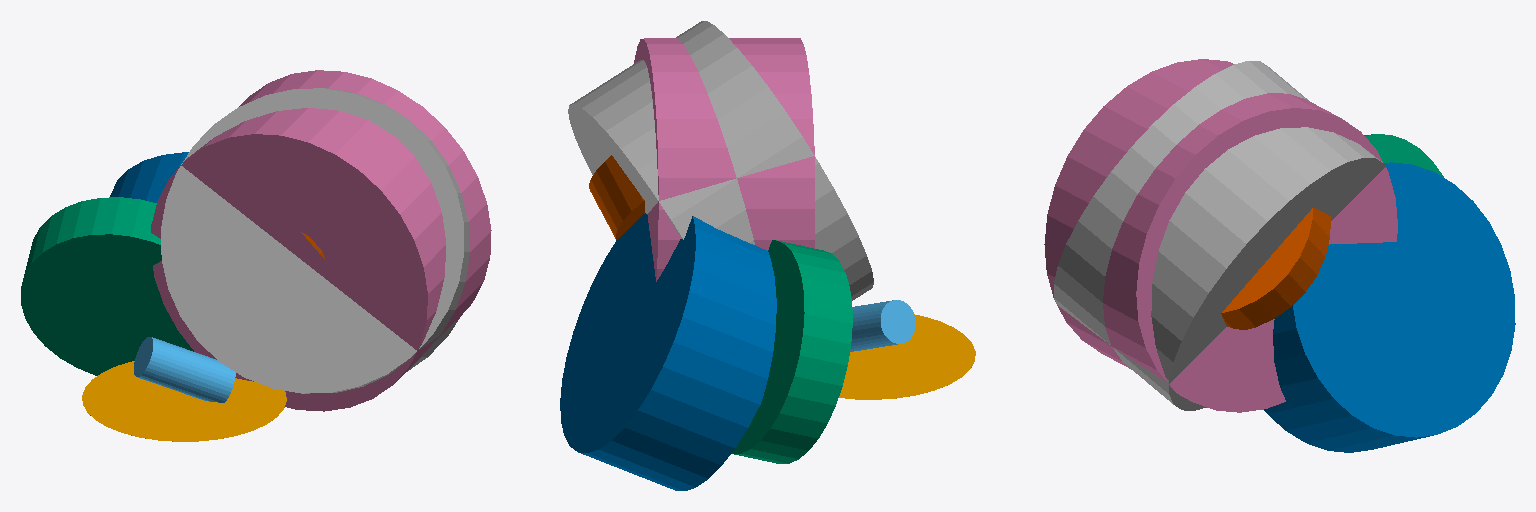
URDF robot description (pepe):
<robot name="pepe">
	<link name="0">
		<visual>
			<geometry>
				<cylinder length="0.00018669200855736634" radius="0.6433571912630214"/>
			</geometry>
		</visual>
		<collision>
			<geometry>
				<cylinder length="0.00018669200855736634" radius="0.6433571912630214"/>
			</geometry>
		</collision>
		<inertial>
			<mass value="0.00024276156039558443"/>
			<inertia ixx="0.03" iyy="0.03" izz="0.03" ixy="0" ixz="0" iyx="0"/>
		</inertial>
	</link>
	<link name="11">
		<visual>
			<geometry>
				<cylinder length="0.5825346973094198" radius="0.1344101030337398"/>
			</geometry>
		</visual>
		<collision>
			<geometry>
				<cylinder length="0.5825346973094198" radius="0.1344101030337398"/>
			</geometry>
		</collision>
		<inertial>
			<mass value="0.03306248549946934"/>
			<inertia ixx="0.03" iyy="0.03" izz="0.03" ixy="0" ixz="0" iyx="0"/>
		</inertial>
	</link>
	<link name="42">
		<visual>
			<geometry>
				<cylinder length="0.32991061629635154" radius="0.659888503144035"/>
			</geometry>
		</visual>
		<collision>
			<geometry>
				<cylinder length="0.32991061629635154" radius="0.659888503144035"/>
			</geometry>
		</collision>
		<inertial>
			<mass value="0.45132281440264777"/>
			<inertia ixx="0.03" iyy="0.03" izz="0.03" ixy="0" ixz="0" iyx="0"/>
		</inertial>
	</link>
	<link name="63">
		<visual>
			<geometry>
				<cylinder length="0.4282506855319457" radius="0.021542928580594145"/>
			</geometry>
		</visual>
		<collision>
			<geometry>
				<cylinder length="0.4282506855319457" radius="0.021542928580594145"/>
			</geometry>
		</collision>
		<inertial>
			<mass value="0.0006243921334717215"/>
			<inertia ixx="0.03" iyy="0.03" izz="0.03" ixy="0" ixz="0" iyx="0"/>
		</inertial>
	</link>
	<link name="24">
		<visual>
			<geometry>
				<cylinder length="0.6767822617877952" radius="0.8325034157491421"/>
			</geometry>
		</visual>
		<collision>
			<geometry>
				<cylinder length="0.6767822617877952" radius="0.8325034157491421"/>
			</geometry>
		</collision>
		<inertial>
			<mass value="1.473570397274502"/>
			<inertia ixx="0.03" iyy="0.03" izz="0.03" ixy="0" ixz="0" iyx="0"/>
		</inertial>
	</link>
	<link name="35">
		<visual>
			<geometry>
				<cylinder length="0.358516004105492" radius="0.6289221186312428"/>
			</geometry>
		</visual>
		<collision>
			<geometry>
				<cylinder length="0.358516004105492" radius="0.6289221186312428"/>
			</geometry>
		</collision>
		<inertial>
			<mass value="0.4455045639168888"/>
			<inertia ixx="0.03" iyy="0.03" izz="0.03" ixy="0" ixz="0" iyx="0"/>
		</inertial>
	</link>
	<link name="76">
		<visual>
			<geometry>
				<cylinder length="0.9525721408762844" radius="0.9599301255418282"/>
			</geometry>
		</visual>
		<collision>
			<geometry>
				<cylinder length="0.9525721408762844" radius="0.9599301255418282"/>
			</geometry>
		</collision>
		<inertial>
			<mass value="2.7575728297932733"/>
			<inertia ixx="0.03" iyy="0.03" izz="0.03" ixy="0" ixz="0" iyx="0"/>
		</inertial>
	</link>
	<link name="77">
		<visual>
			<geometry>
				<cylinder length="0.9525721408762844" radius="0.9599301255418282"/>
			</geometry>
		</visual>
		<collision>
			<geometry>
				<cylinder length="0.9525721408762844" radius="0.9599301255418282"/>
			</geometry>
		</collision>
		<inertial>
			<mass value="2.7575728297932733"/>
			<inertia ixx="0.03" iyy="0.03" izz="0.03" ixy="0" ixz="0" iyx="0"/>
		</inertial>
	</link>
	<link name="58">
		<visual>
			<geometry>
				<cylinder length="0.00153756204312816" radius="0.02708229181987041"/>
			</geometry>
		</visual>
		<collision>
			<geometry>
				<cylinder length="0.00153756204312816" radius="0.02708229181987041"/>
			</geometry>
		</collision>
		<inertial>
			<mass value="3.5428547611058314e-06"/>
			<inertia ixx="0.03" iyy="0.03" izz="0.03" ixy="0" ixz="0" iyx="0"/>
		</inertial>
	</link>
	<link name="59">
		<visual>
			<geometry>
				<cylinder length="0.00153756204312816" radius="0.02708229181987041"/>
			</geometry>
		</visual>
		<collision>
			<geometry>
				<cylinder length="0.00153756204312816" radius="0.02708229181987041"/>
			</geometry>
		</collision>
		<inertial>
			<mass value="3.5428547611058314e-06"/>
			<inertia ixx="0.03" iyy="0.03" izz="0.03" ixy="0" ixz="0" iyx="0"/>
		</inertial>
	</link>
	<joint name="11_to_0" type="revolute">
		<parent link="0"/>
		<child link="11"/>
		<axis xyz="1 0 0"/>
		<limit effort="1" upper="-3.1415" lower="3.1415" velocity="1"/>
		<origin rpy="11.626505171087503 5.516802298202429 0.7791319437868018" xyz="0.0019279200350848108 0.0005248485264476697 0.18877120123119884"/>
	</joint>
	<joint name="42_to_11" type="revolute">
		<parent link="11"/>
		<child link="42"/>
		<axis xyz="0 0 1"/>
		<limit effort="1" upper="-3.1415" lower="3.1415" velocity="1"/>
		<origin rpy="0.10051264616390823 1.3953726500600625 3.620509695951334" xyz="0.6345348520150791 0.6369416216841768 0.23249578398044024"/>
	</joint>
	<joint name="63_to_42" type="revolute">
		<parent link="42"/>
		<child link="63"/>
		<axis xyz="1 0 0"/>
		<limit effort="1" upper="-3.1415" lower="3.1415" velocity="1"/>
		<origin rpy="2.926150237106665 3.4902134344414972 2.629317776859516" xyz="0.7645397743925203 0.7419708613084566 0.4547575271281963"/>
	</joint>
	<joint name="24_to_0" type="revolute">
		<parent link="0"/>
		<child link="24"/>
		<axis xyz="0 1 0"/>
		<limit effort="1" upper="-3.1415" lower="3.1415" velocity="1"/>
		<origin rpy="15.855197879314145 4.22851677776207 0.5600087386388388" xyz="0.807546668794237 0.9347432046170919 0.26792392211434435"/>
	</joint>
	<joint name="35_to_24" type="revolute">
		<parent link="24"/>
		<child link="35"/>
		<axis xyz="0 1 0"/>
		<limit effort="1" upper="-3.1415" lower="3.1415" velocity="1"/>
		<origin rpy="6.785089119530647 2.3121756090544063 4.853502502754321" xyz="0.7134389939078161 0.9788641507588274 0.06884801253084266"/>
	</joint>
	<joint name="76_to_35" type="revolute">
		<parent link="35"/>
		<child link="76"/>
		<axis xyz="0 1 0"/>
		<limit effort="1" upper="-3.1415" lower="3.1415" velocity="1"/>
		<origin rpy="1.1237722998584785 3.348510114491183 5.698737545195735" xyz="0.06871412873716953 0.028629970202144972 0.23027762422650355"/>
	</joint>
	<joint name="77_to_35" type="revolute">
		<parent link="35"/>
		<child link="77"/>
		<axis xyz="0 1 0"/>
		<limit effort="1" upper="-3.1415" lower="3.1415" velocity="1"/>
		<origin rpy="1.6856584497877178 3.348510114491183 5.698737545195735" xyz="0.06871412873716953 0.028629970202144972 0.23027762422650355"/>
	</joint>
	<joint name="58_to_0" type="revolute">
		<parent link="0"/>
		<child link="58"/>
		<axis xyz="0 0 1"/>
		<limit effort="1" upper="-3.1415" lower="3.1415" velocity="1"/>
		<origin rpy="8.017034822677475 0.49041554351940575 3.3105613913002006" xyz="0.7252082934959747 0.33647244760358364 0.807868748932156"/>
	</joint>
	<joint name="59_to_0" type="revolute">
		<parent link="0"/>
		<child link="59"/>
		<axis xyz="0 0 1"/>
		<limit effort="1" upper="-3.1415" lower="3.1415" velocity="1"/>
		<origin rpy="10.021293528346844 0.49041554351940575 3.3105613913002006" xyz="0.7252082934959747 0.33647244760358364 0.807868748932156"/>
	</joint>
</robot>

--- Render facts (derived) ---
The picture shows the robot from 3 angles, left to right: view 1: azimuth 30°, elevation 25°; view 2: azimuth 150°, elevation 25°; view 3: azimuth 270°, elevation 25°; orthographic projection.
Robot: pepe — 10 links, 9 joints (9 revolute); root link 0; default pose: every joint at zero.
Links seen in each view (by area): view 1: 76, 77, 42, 0, 11, 24; view 2: 24, 77, 76, 42, 0, 11, 35; view 3: 24, 77, 76, 35, 42.
Link boxes in pixels (x1,y1,x2,y2): 76: [151, 70, 491, 411]; 77: [161, 88, 469, 393]; 42: [21, 197, 193, 375]; 0: [82, 361, 286, 441]; 11: [134, 337, 235, 402]; 24: [110, 152, 188, 202]; 24: [560, 213, 776, 490]; 77: [568, 21, 873, 300]; 76: [634, 38, 814, 281]; 42: [731, 240, 852, 463]; 0: [839, 314, 975, 399]; 11: [850, 300, 915, 351]; 35: [589, 155, 644, 239]; 24: [1264, 162, 1515, 452]; 77: [1054, 61, 1384, 410]; 76: [1044, 59, 1397, 412]; 35: [1221, 208, 1330, 329]; 42: [1364, 134, 1443, 177].
Size in the robot's own frame: 2.72 by 2.82 by 2.53 metres.
Geometry: primitives only (box / cylinder / sphere), no mesh files.
